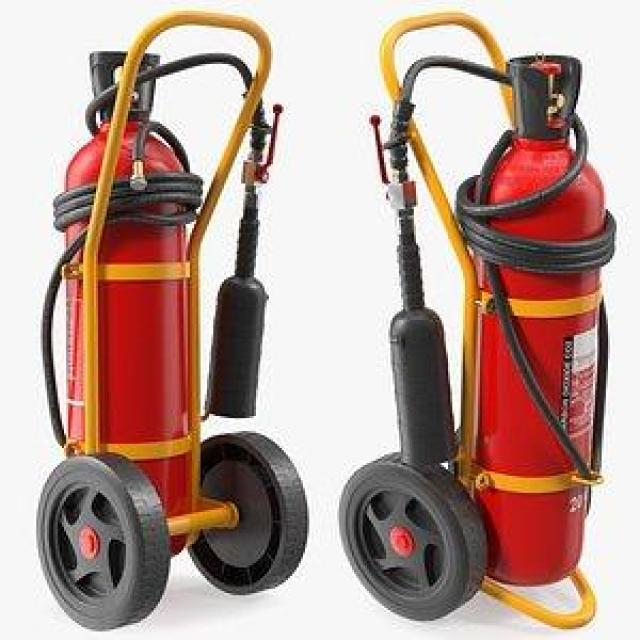fire_extinguisher: (31, 43, 287, 595), (367, 46, 616, 592)
